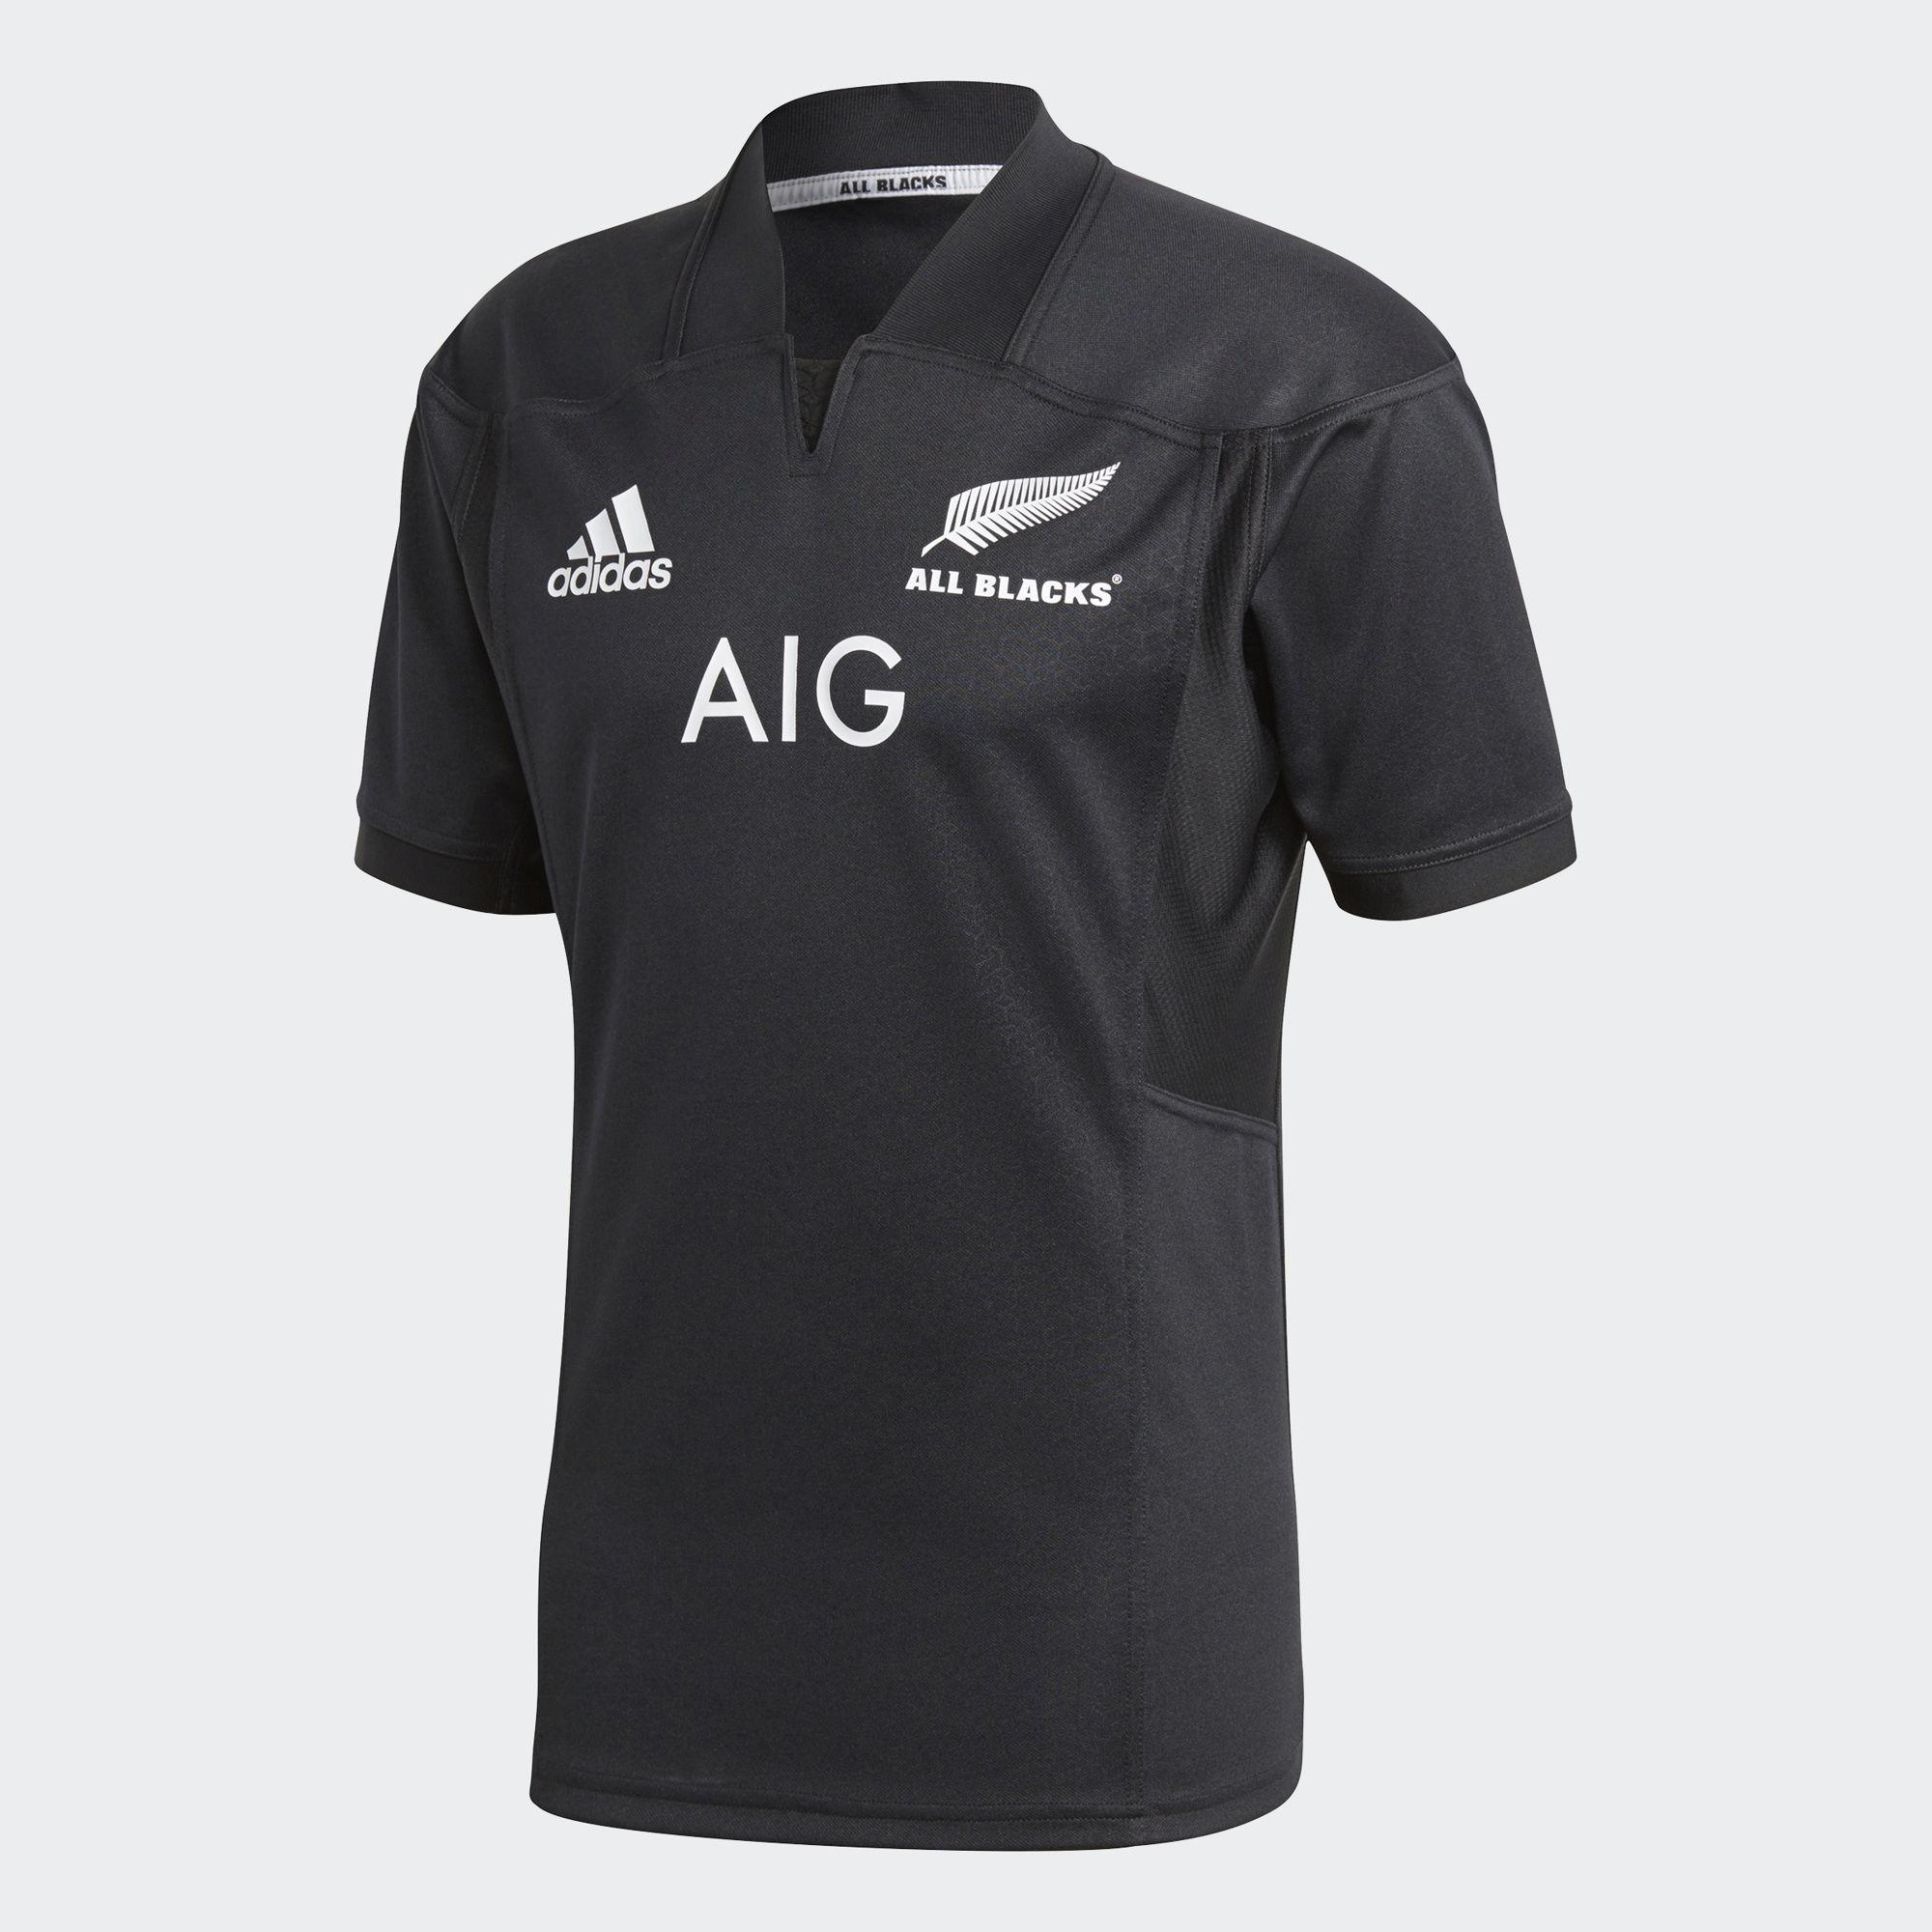teeshirt: (303, 51, 1605, 1916)
